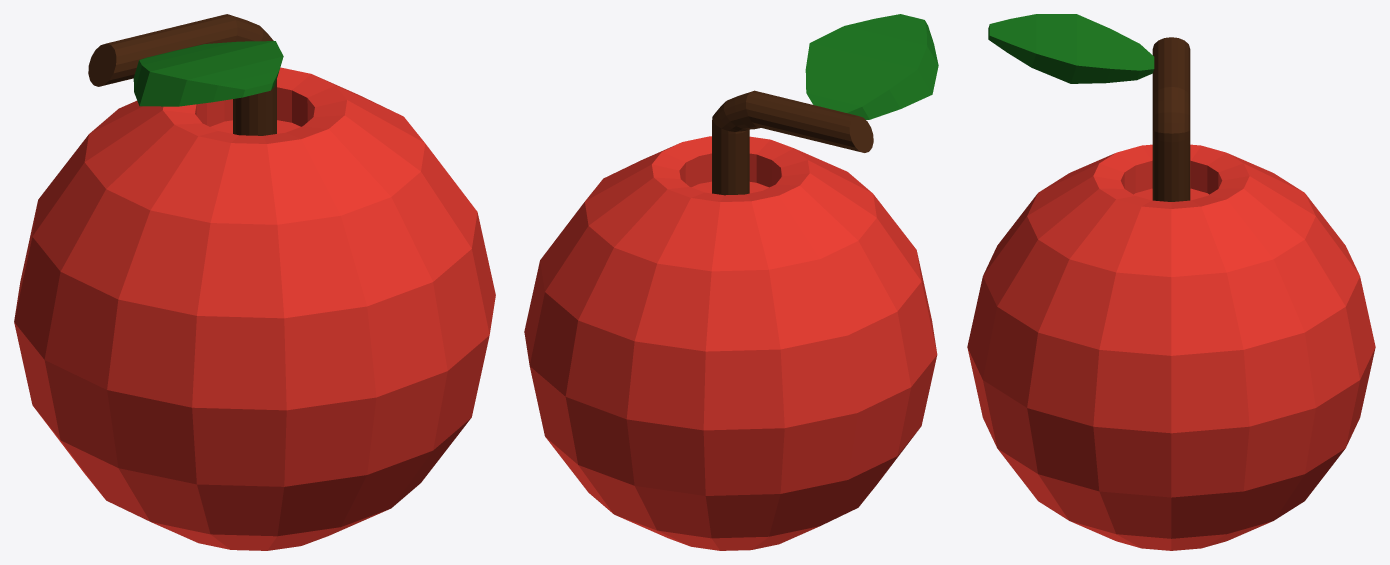
Rendered from Apple.fbx.
3 renders of one model, left to right at view 1: azimuth 30°, elevation 25°; view 2: azimuth 150°, elevation 25°; view 3: azimuth 270°, elevation 25°, orthographic. The views are drawn at different scales.
Parts seen in each view (by area): view 1: Apple; view 2: Apple; view 3: Apple.
Boxes of the visible parts, left/top/right/bottom form: Apple: left=14, top=14, right=495, bottom=550; Apple: left=524, top=14, right=938, bottom=550; Apple: left=967, top=14, right=1375, bottom=550.
Bounding box in the file's own units: 80 × 96.35 × 80.
